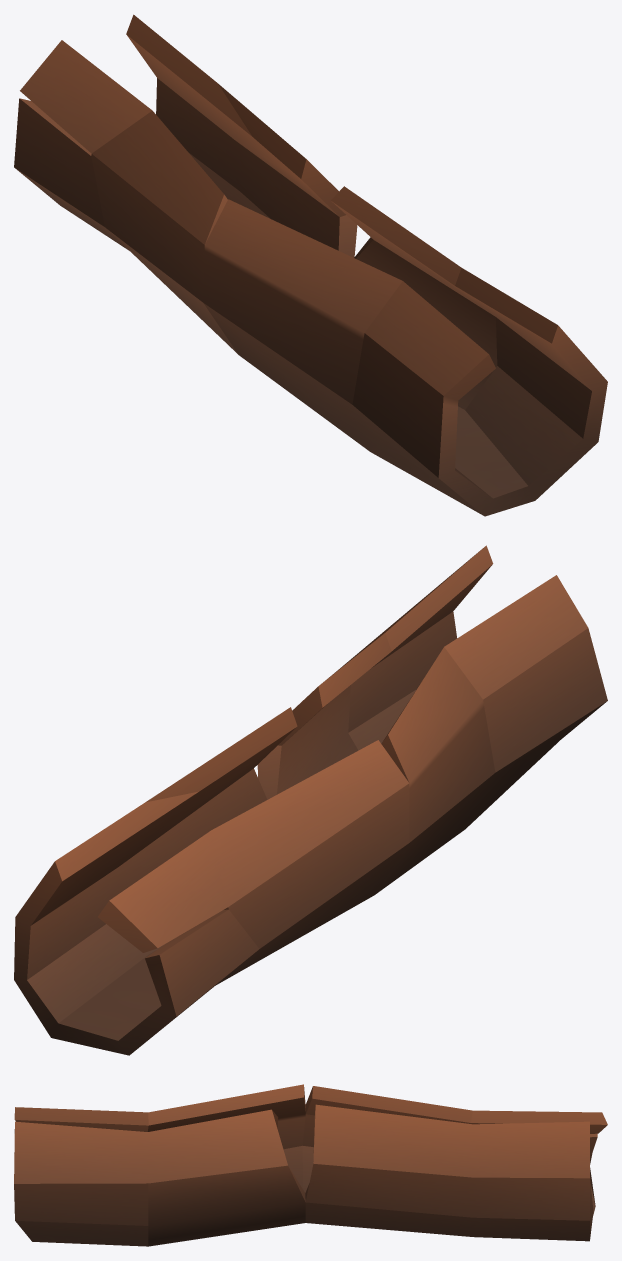
Rendered from maderaCaida1.fbx.
The picture shows the model from 3 angles, top to bottom: view 1: azimuth 30°, elevation 25°; view 2: azimuth 150°, elevation 25°; view 3: azimuth 270°, elevation 25°; orthographic projection. The views are drawn at different scales.
Visible parts, largest first — view 1: maderaCaida1; view 2: maderaCaida1; view 3: maderaCaida1.
Boxes of the visible parts, <box> form: maderaCaida1: <box>14,14,607,516</box>; maderaCaida1: <box>14,545,607,1055</box>; maderaCaida1: <box>14,1084,607,1246</box>.
Size of the model in its own units: 360 by 346 by 1422.
